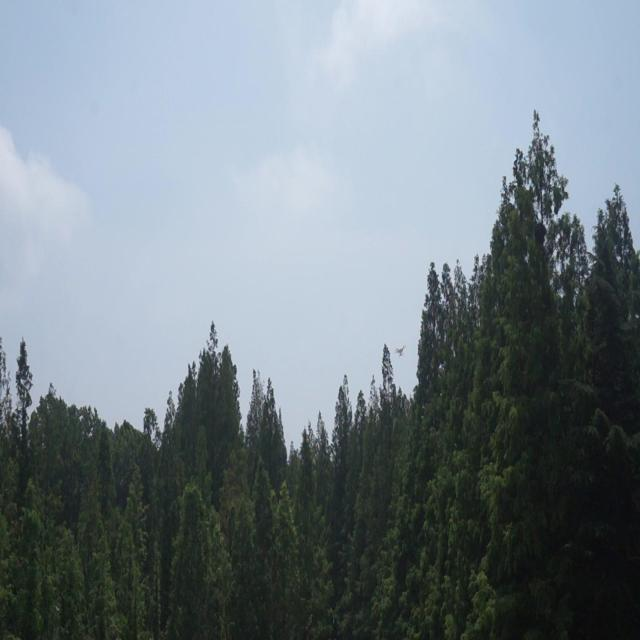drone: (394, 342, 406, 360)
